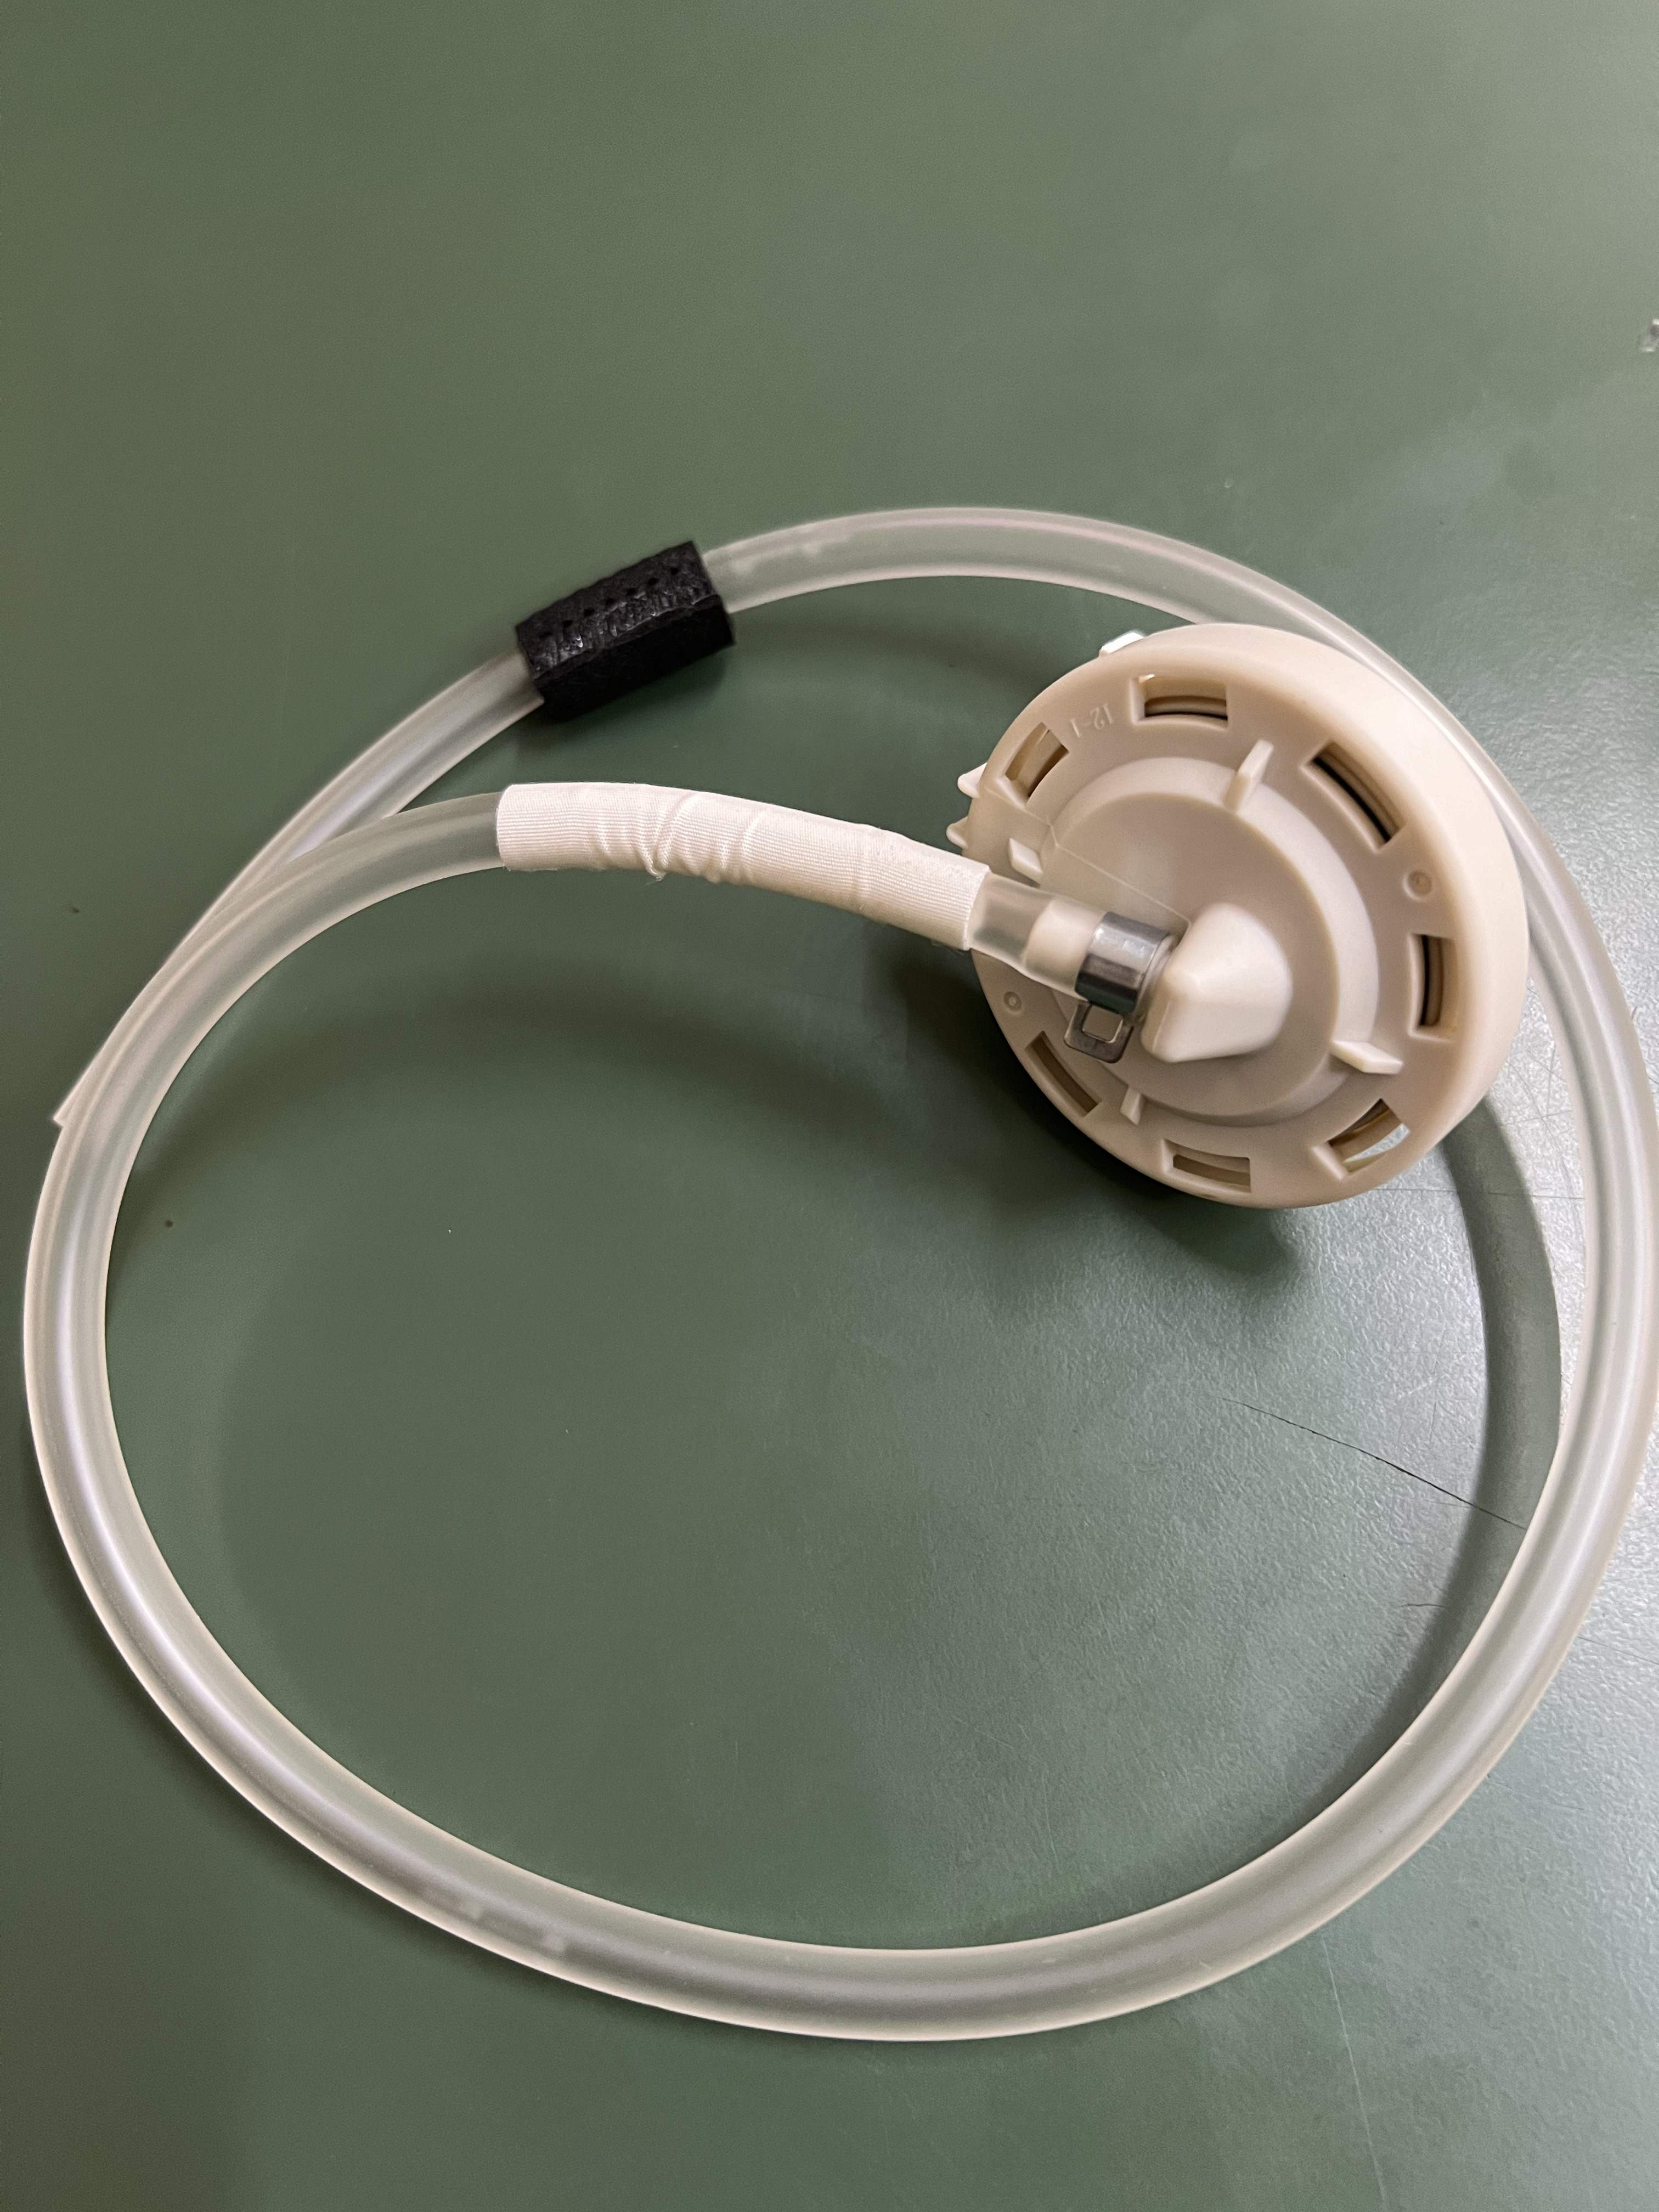pressure_sensor: (929, 643, 1563, 1219)
